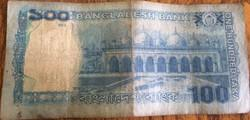100 taka: (10, 2, 244, 111)
